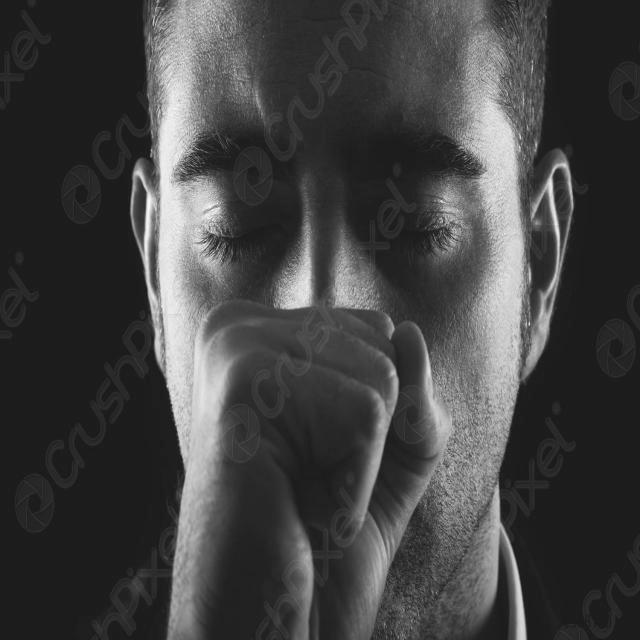real: (128, 5, 575, 640), (148, 84, 512, 290)
